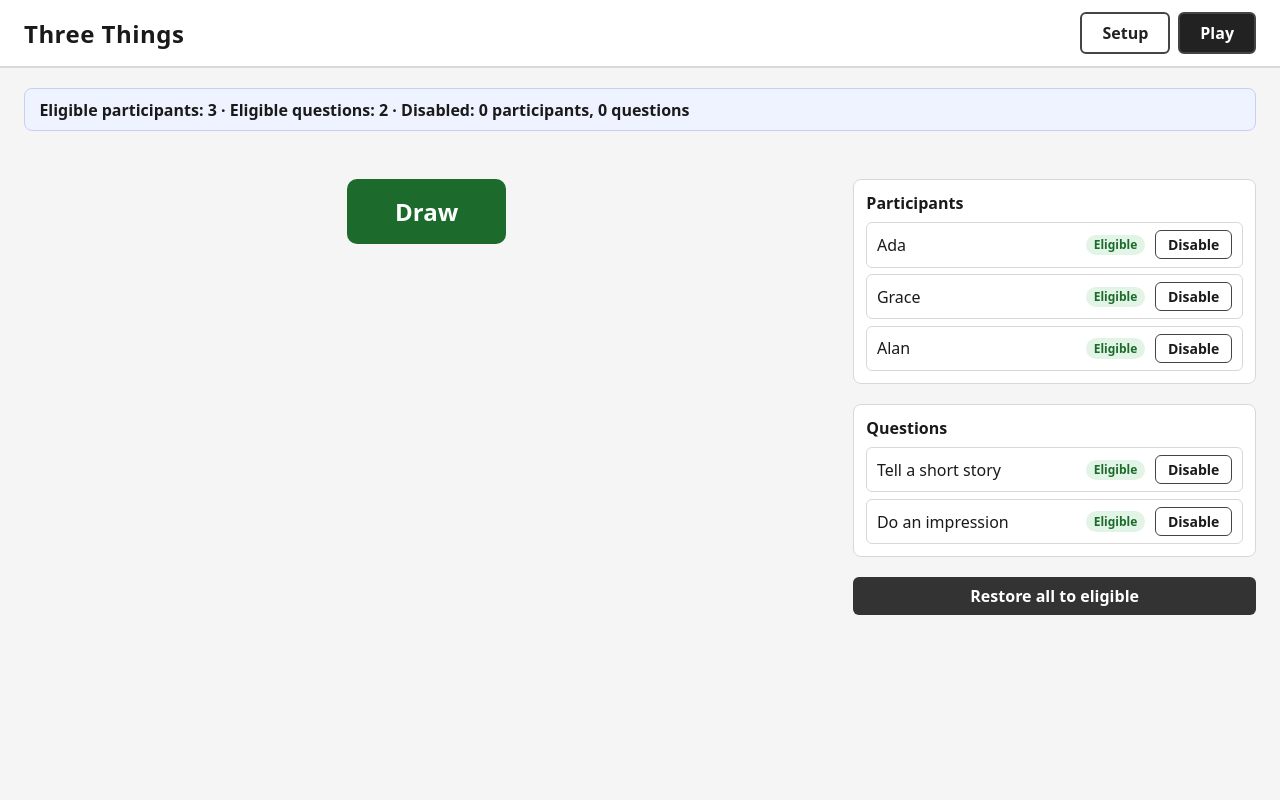
it: game over flow › shows counts, reports the exhausted resource without a pair and resumes after restore-all
Expected: the text "Eligible participants: 3 · Eligible questions: 2 · Disabled: 0 participants, 0 questions" is shown, [24, 88, 1256, 131]
What coordinates should you click on to do the following:
click the button with aria-label "Disable Tell a short story"
I would click on:
 (1194, 470)
Its box is [1155, 455, 1232, 484].
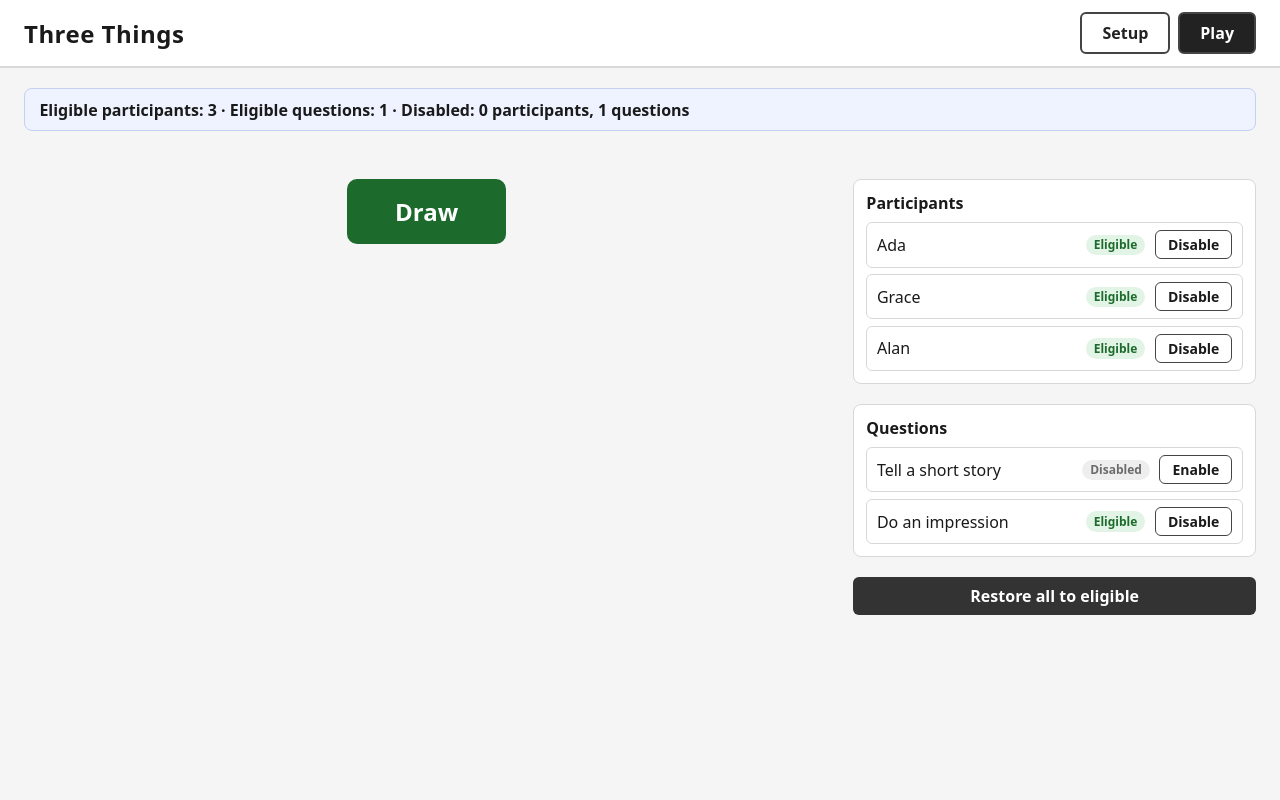
What coordinates should you click on to do the following:
click the button with aria-label "Disable Do an impression"
I would click on:
 (1194, 522)
Its box is [1155, 507, 1232, 536].
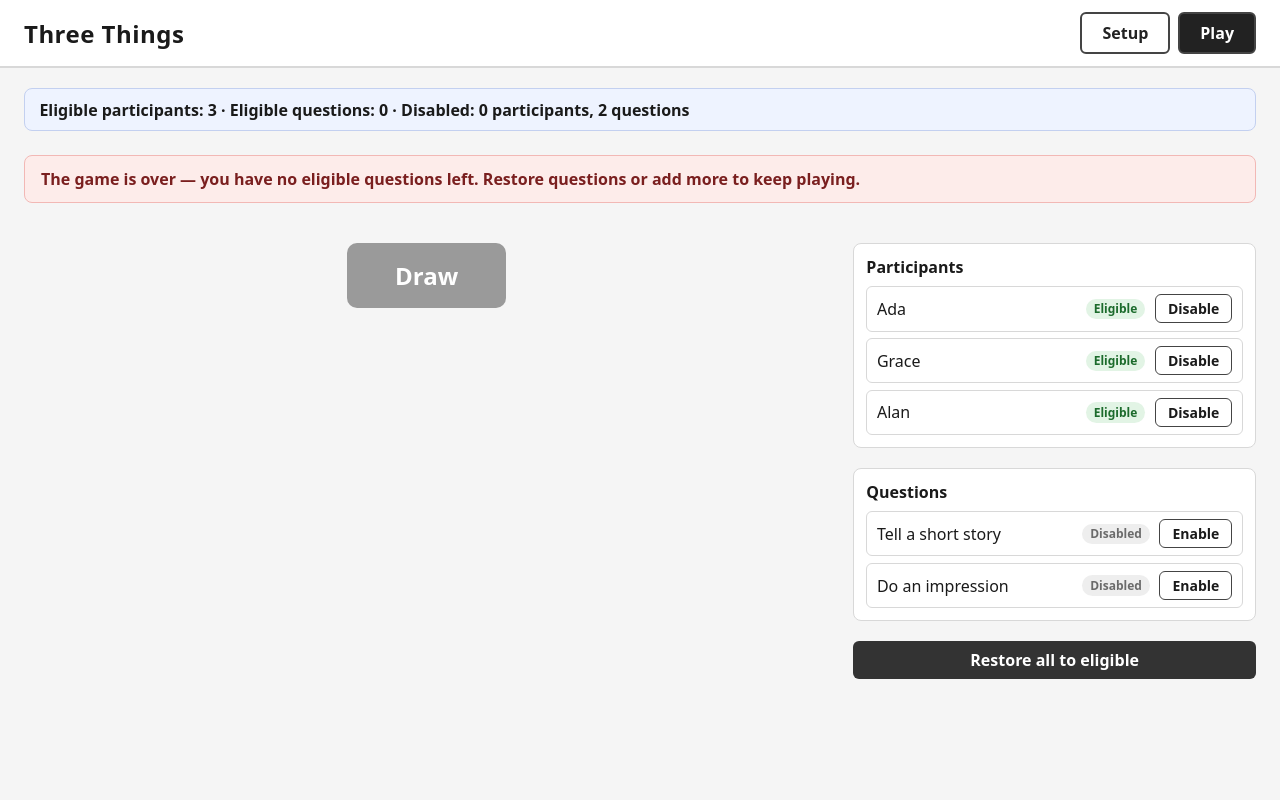
Result: the text "The game is over — you have no eligible questions left. Restore questions or add more to keep playing." is shown at [41, 168, 860, 190]
Result: the button "Draw" is disabled at [347, 243, 506, 308]
Result: the text "Eligible participants: 3 · Eligible questions: 0 · Disabled: 0 participants, 2 questions" is shown at [24, 88, 1256, 131]
What coordinates should you click on to do the following:
click the button "Restore all to eligible"
I would click on:
 (1055, 660)
Its box is [853, 641, 1256, 679].
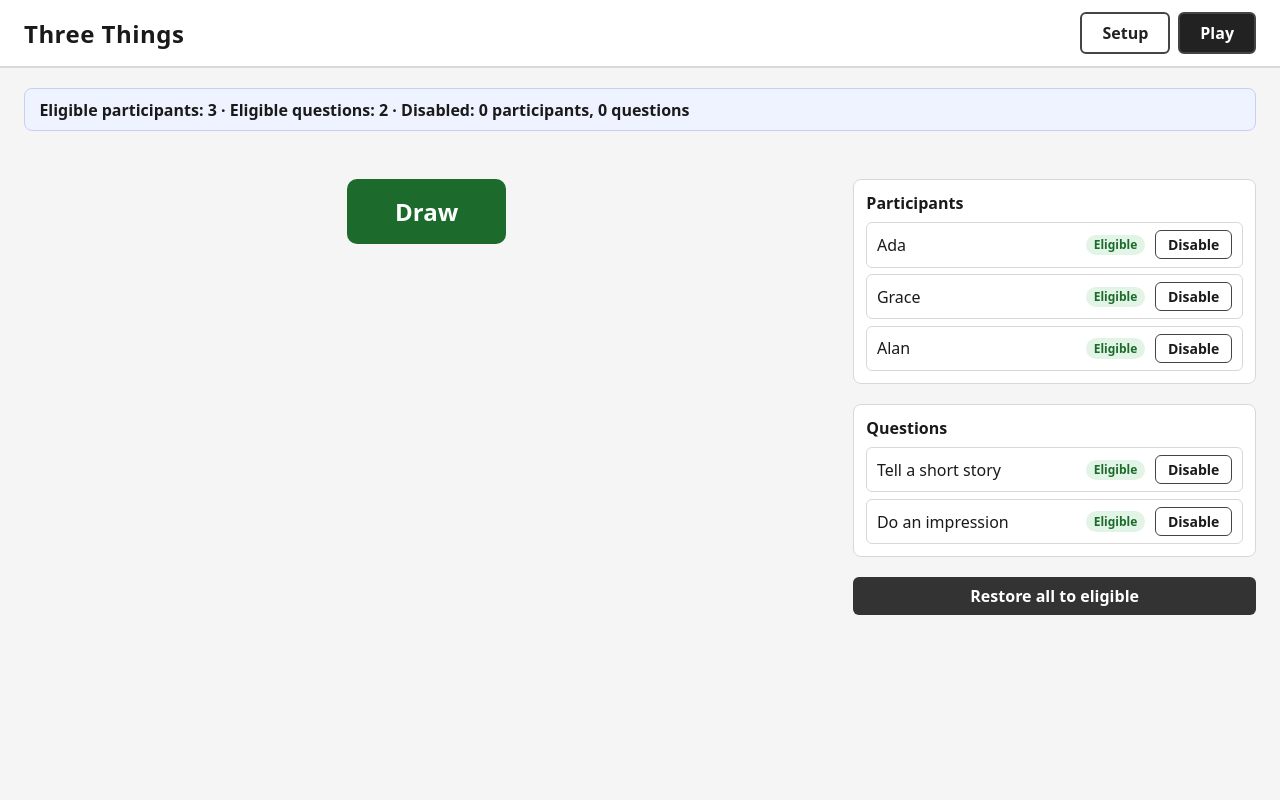
Result: the text "The game is over — you have no eligible questions left. Restore questions or add more to keep playing." is gone
Result: the button "Draw" is enabled
What coordinates should you click on to do the following:
click the button "Draw"
I would click on:
 (427, 212)
Its box is [347, 179, 506, 244].
Wait 3000 ms
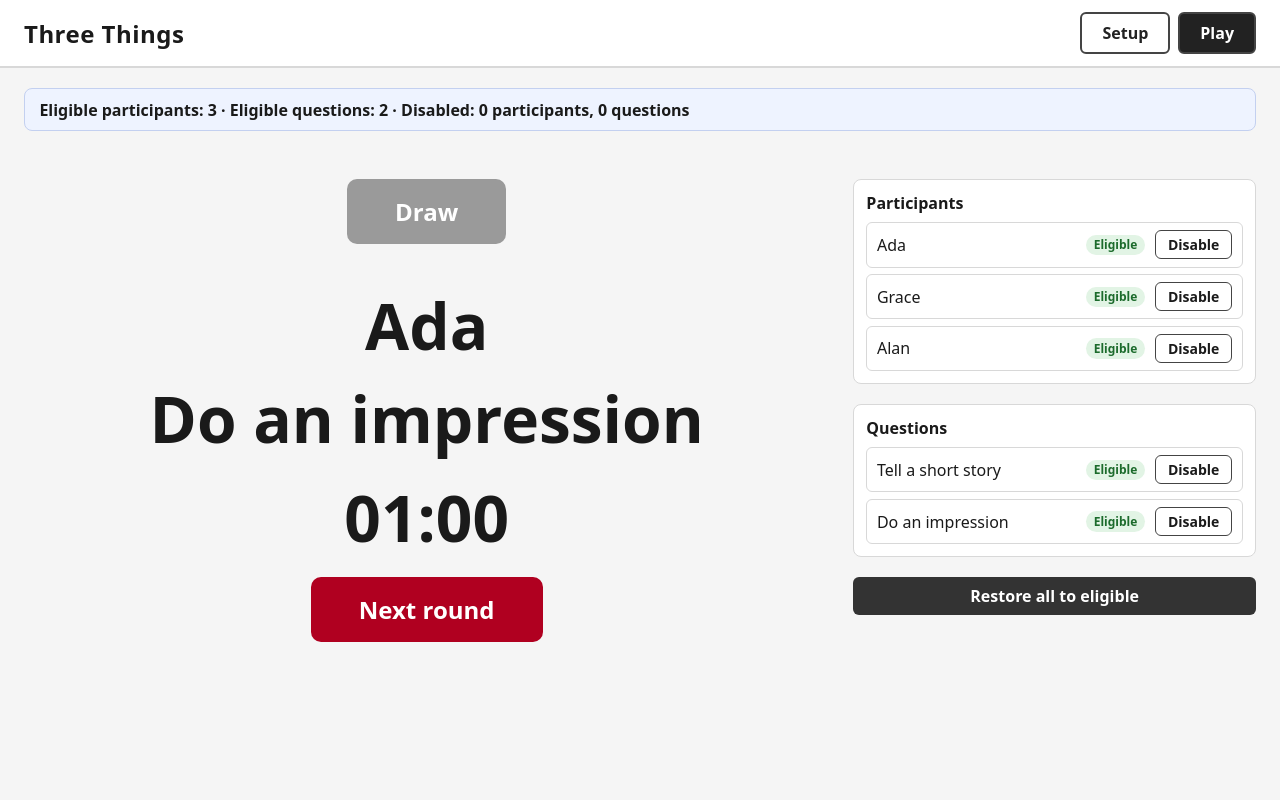
Result: the button with aria-label "Disable Tell a short story" is shown at [1155, 455, 1232, 484]
Result: the text "Eligible participants: 3 · Eligible questions: 2 · Disabled: 0 participants, 0 questions" is shown at [24, 88, 1256, 131]
Result: the element named "Current round" is shown at [126, 264, 728, 666]
